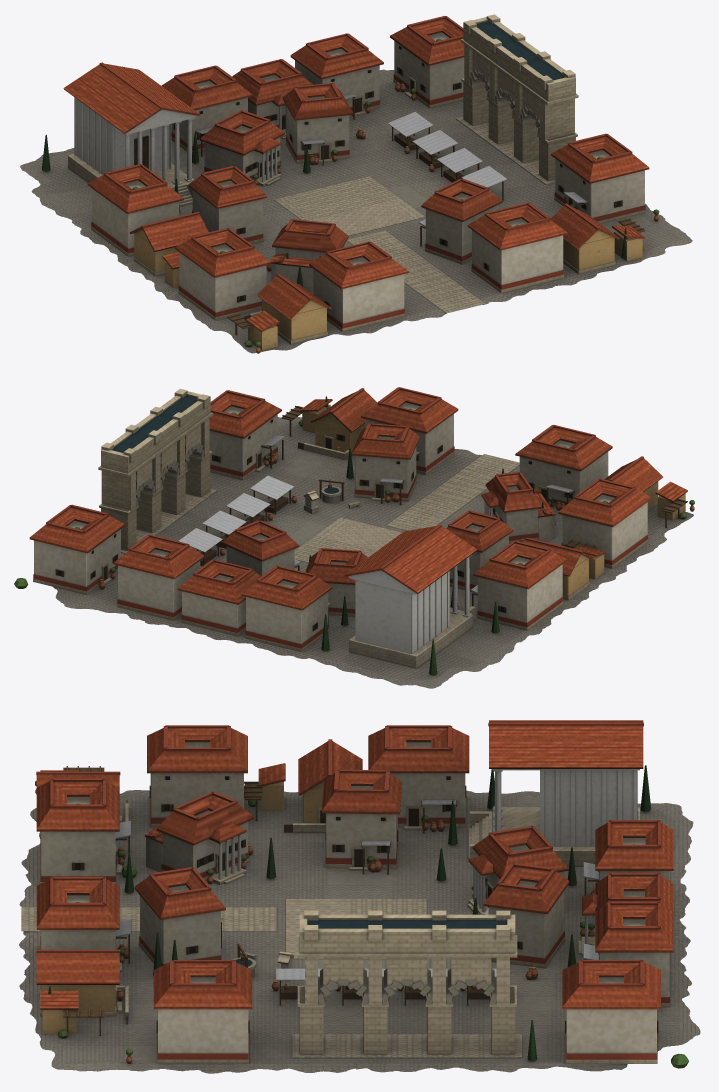
Rendered from classical-town-medium-a-europe.glb.
3 views of the same model, one above another, from view 1: azimuth 30°, elevation 25°; view 2: azimuth 150°, elevation 25°; view 3: azimuth 270°, elevation 25° (orthographic). The views are drawn at different scales.
Visible parts, largest first — view 1: LOD0; view 2: LOD0; view 3: LOD0.
Boxes of the visible parts, x1,y1,x2,y2 form: LOD0: [20, 14, 692, 353]; LOD0: [14, 387, 694, 688]; LOD0: [19, 720, 700, 1073].
Size of what is drawn, in the model's own units: 6.03 by 1.26 by 6.09.
3 materials, 3 textured.
